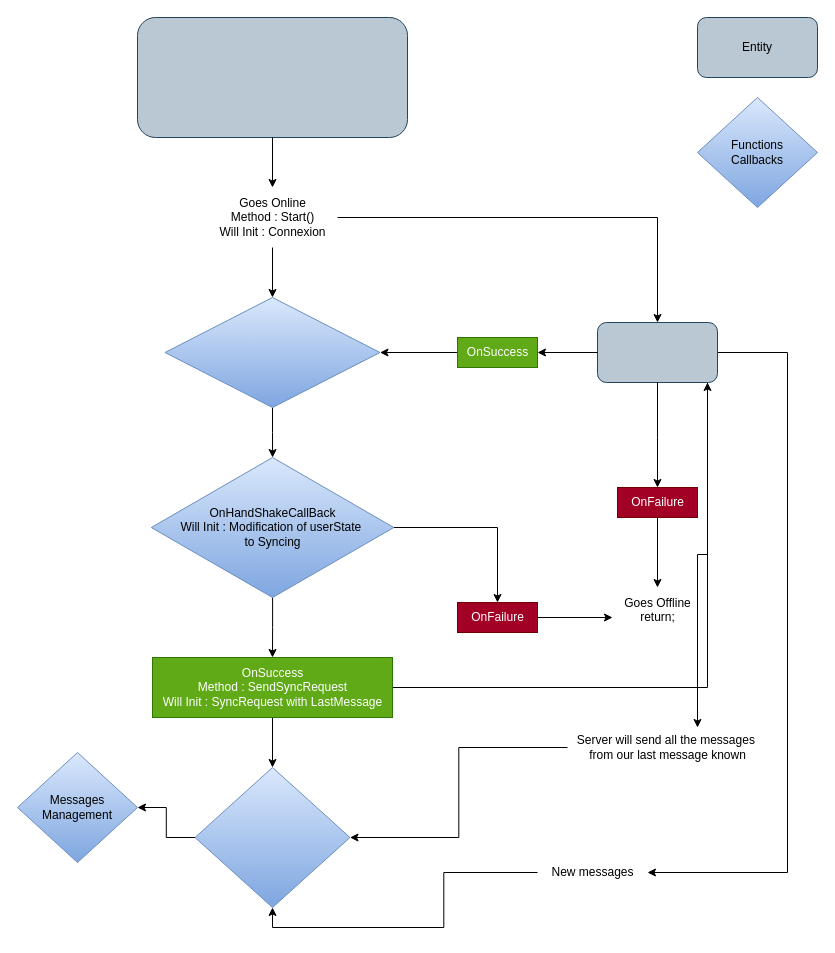
Some shapes in this 835 by 953 pixel diagram are drawn without their labels. Here are the shapes that lost their labels. From the top down, the box of each, then its label:
(136, 16, 408, 138): Client (Offline) LastMessage : ce43032c-51b0-45bf-a18b-932646c8c4cd
(164, 296, 380, 408): OnConnectCallBack Will Init : Handshake
(596, 322, 718, 382): Server
(194, 766, 350, 908): DoRead ♲ Will Init : Listening to the server
